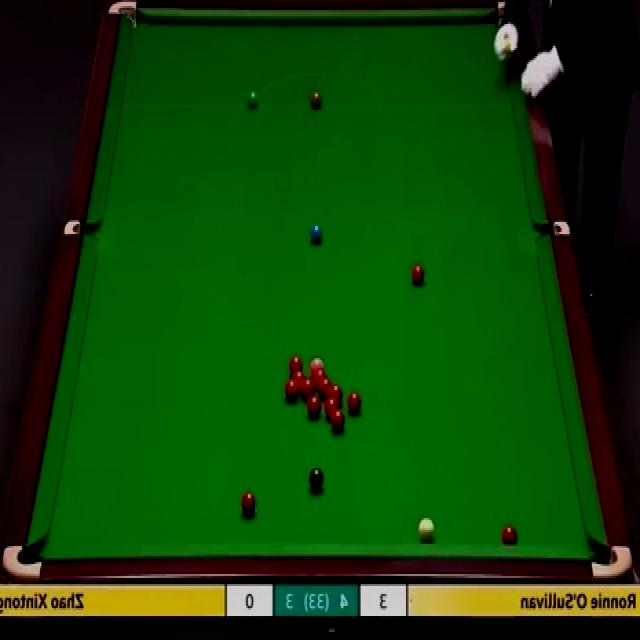pocket: (1, 540, 45, 585), (589, 543, 635, 585), (496, 0, 527, 31), (110, 0, 139, 32), (538, 218, 572, 238), (67, 220, 103, 235)
